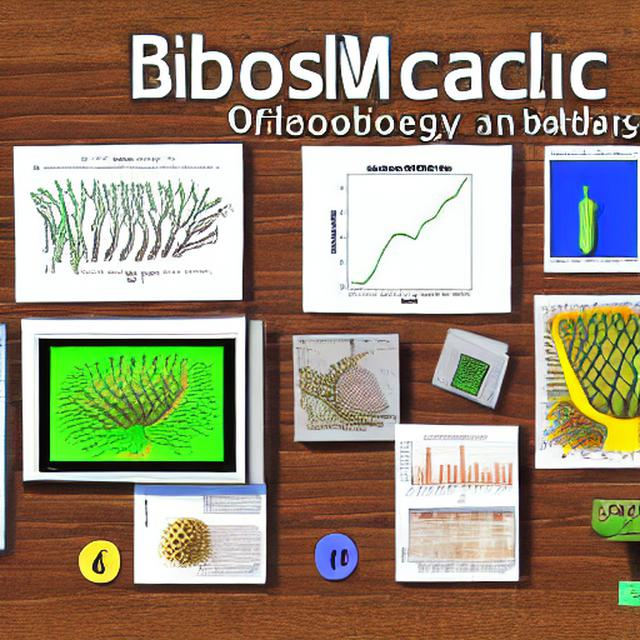Graph: (307, 156, 507, 306), (398, 436, 515, 502)
